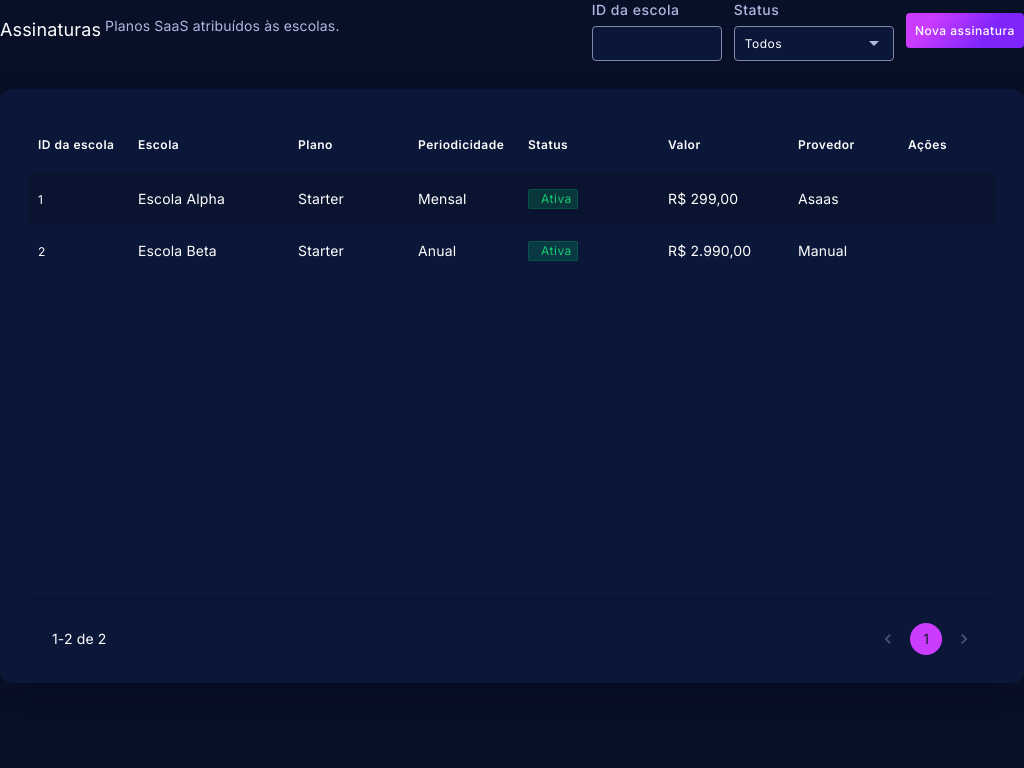
Test: Subscriptions page › asks for interval when assigning a plan
Click the button "Nova assinatura": coordinates (965, 30) top-left (906, 13), bottom-right (1023, 48)
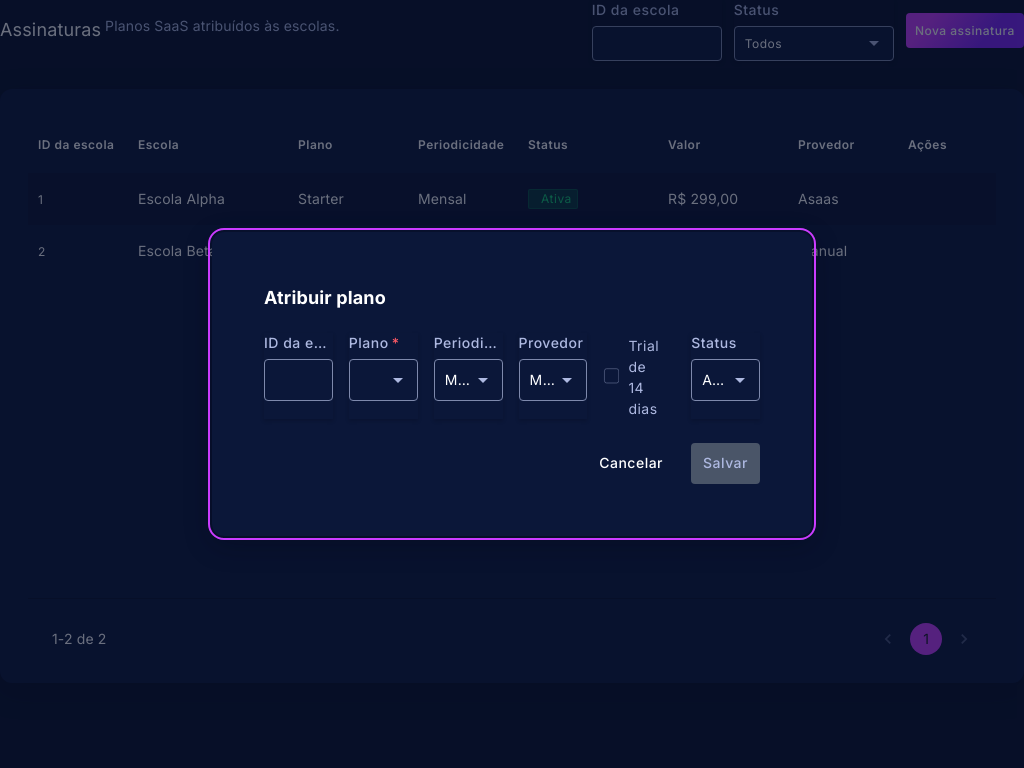
Check: the dropdown named "periodicidade" is shown, box top-left (445, 370), bottom-right (492, 390)
Check: the dropdown named "provedor" is shown, box top-left (530, 370), bottom-right (576, 390)
